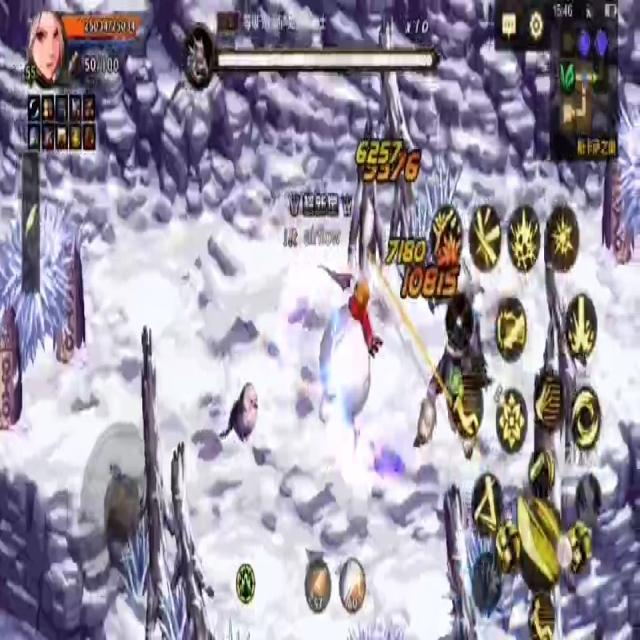player: (318, 269, 372, 445)
